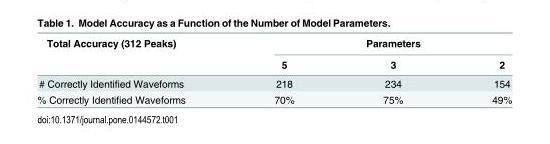table: (36, 36, 511, 104)
table column: (36, 36, 229, 104), (337, 36, 446, 104), (229, 36, 337, 104), (446, 36, 511, 104)
table column header: (36, 36, 511, 73)
table row: (36, 53, 511, 73), (36, 73, 511, 91), (36, 36, 511, 53), (36, 91, 511, 104)
table spanning cell: (36, 36, 229, 73), (229, 36, 511, 53)
